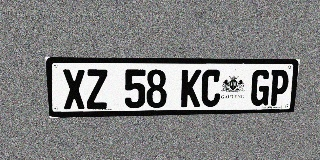5: (125, 69, 146, 108)
8: (146, 69, 167, 108)
C: (201, 69, 222, 107)
G: (250, 70, 271, 106)
K: (181, 69, 202, 107)
P: (268, 70, 290, 106)
X: (62, 69, 86, 109)
Z: (85, 69, 108, 109)
